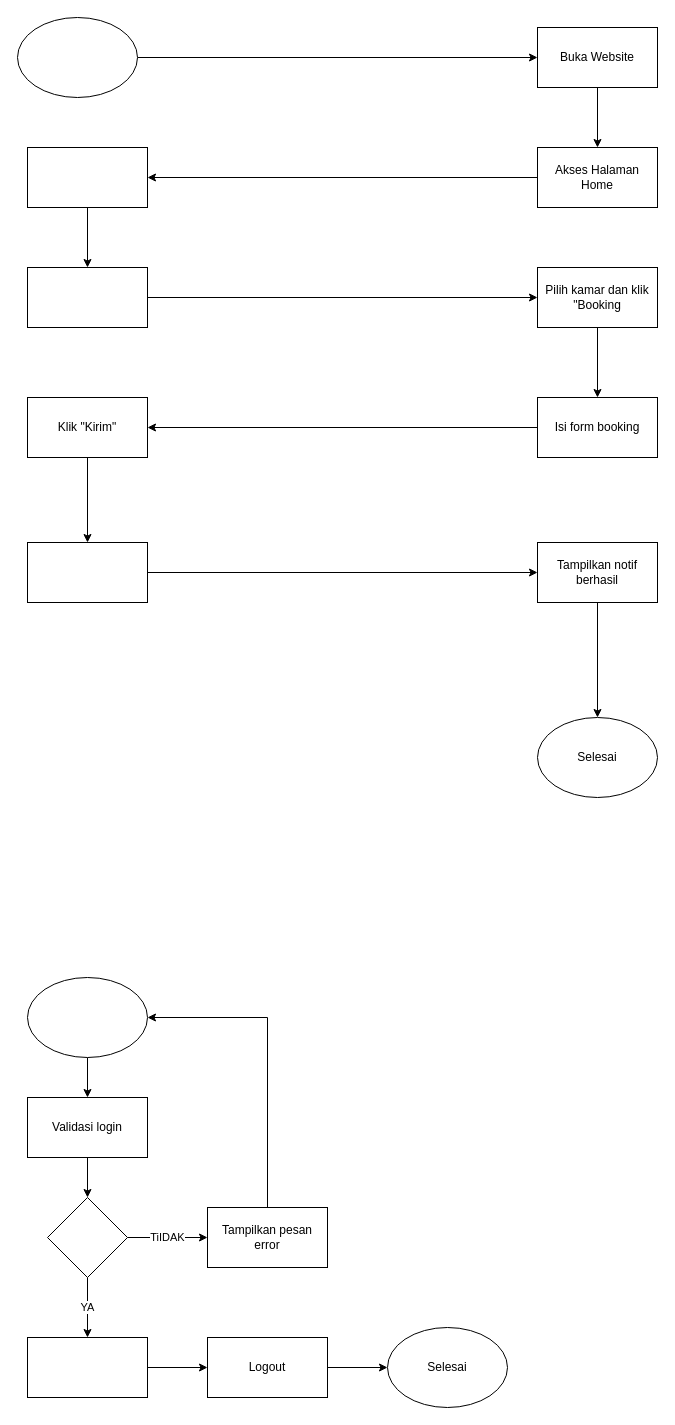
The diagram is 675 pixels wide and 1425 high, and some of its shapes have lost their labels. The centre of each missing label's shape, as x and y in pixels:
Admin login: point (87, 1017)
Data tersimpan di database: point (87, 572)
Klik "Daftar Kamar": point (87, 177)
Masuk dashboard admin: point (87, 1367)
Mulai: point (77, 57)
Tampilkan Daftar Kamar: point (87, 297)
